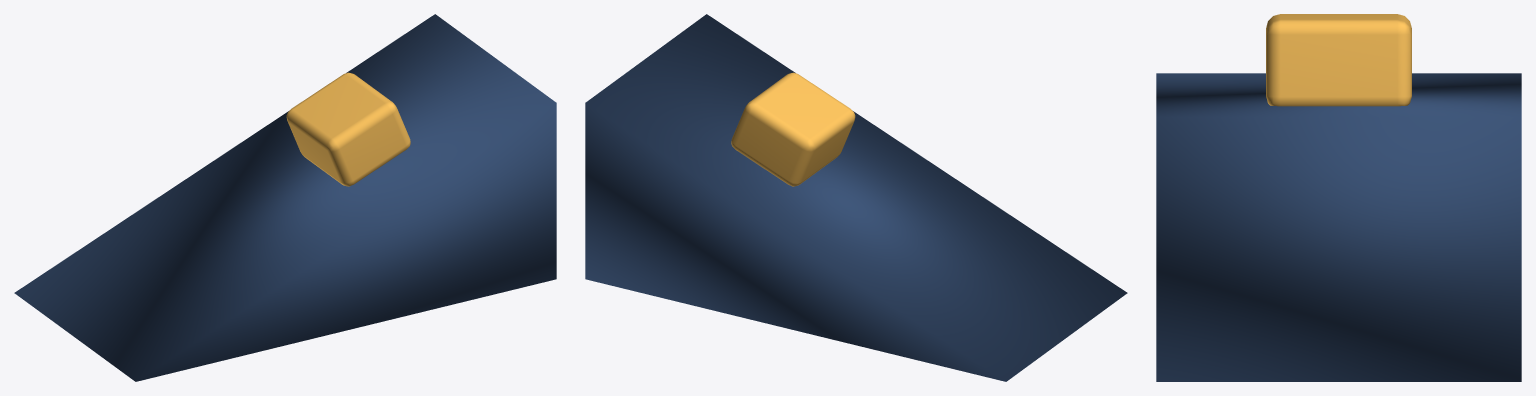
File: inclined-plane-quality.glb
3 renders of one model, left to right at view 1: azimuth 30°, elevation 25°; view 2: azimuth 150°, elevation 25°; view 3: azimuth 270°, elevation 25°, orthographic. The views are drawn at different scales.
Parts seen in each view (by area): view 1: Ramp; view 2: Ramp; view 3: Ramp.
Boxes of the visible parts, <box> form: Ramp: <box>14,14,556,381</box>; Ramp: <box>585,14,1127,381</box>; Ramp: <box>1156,14,1521,381</box>.
Bounding box in the file's own units: 2 × 0.8087 × 1.
